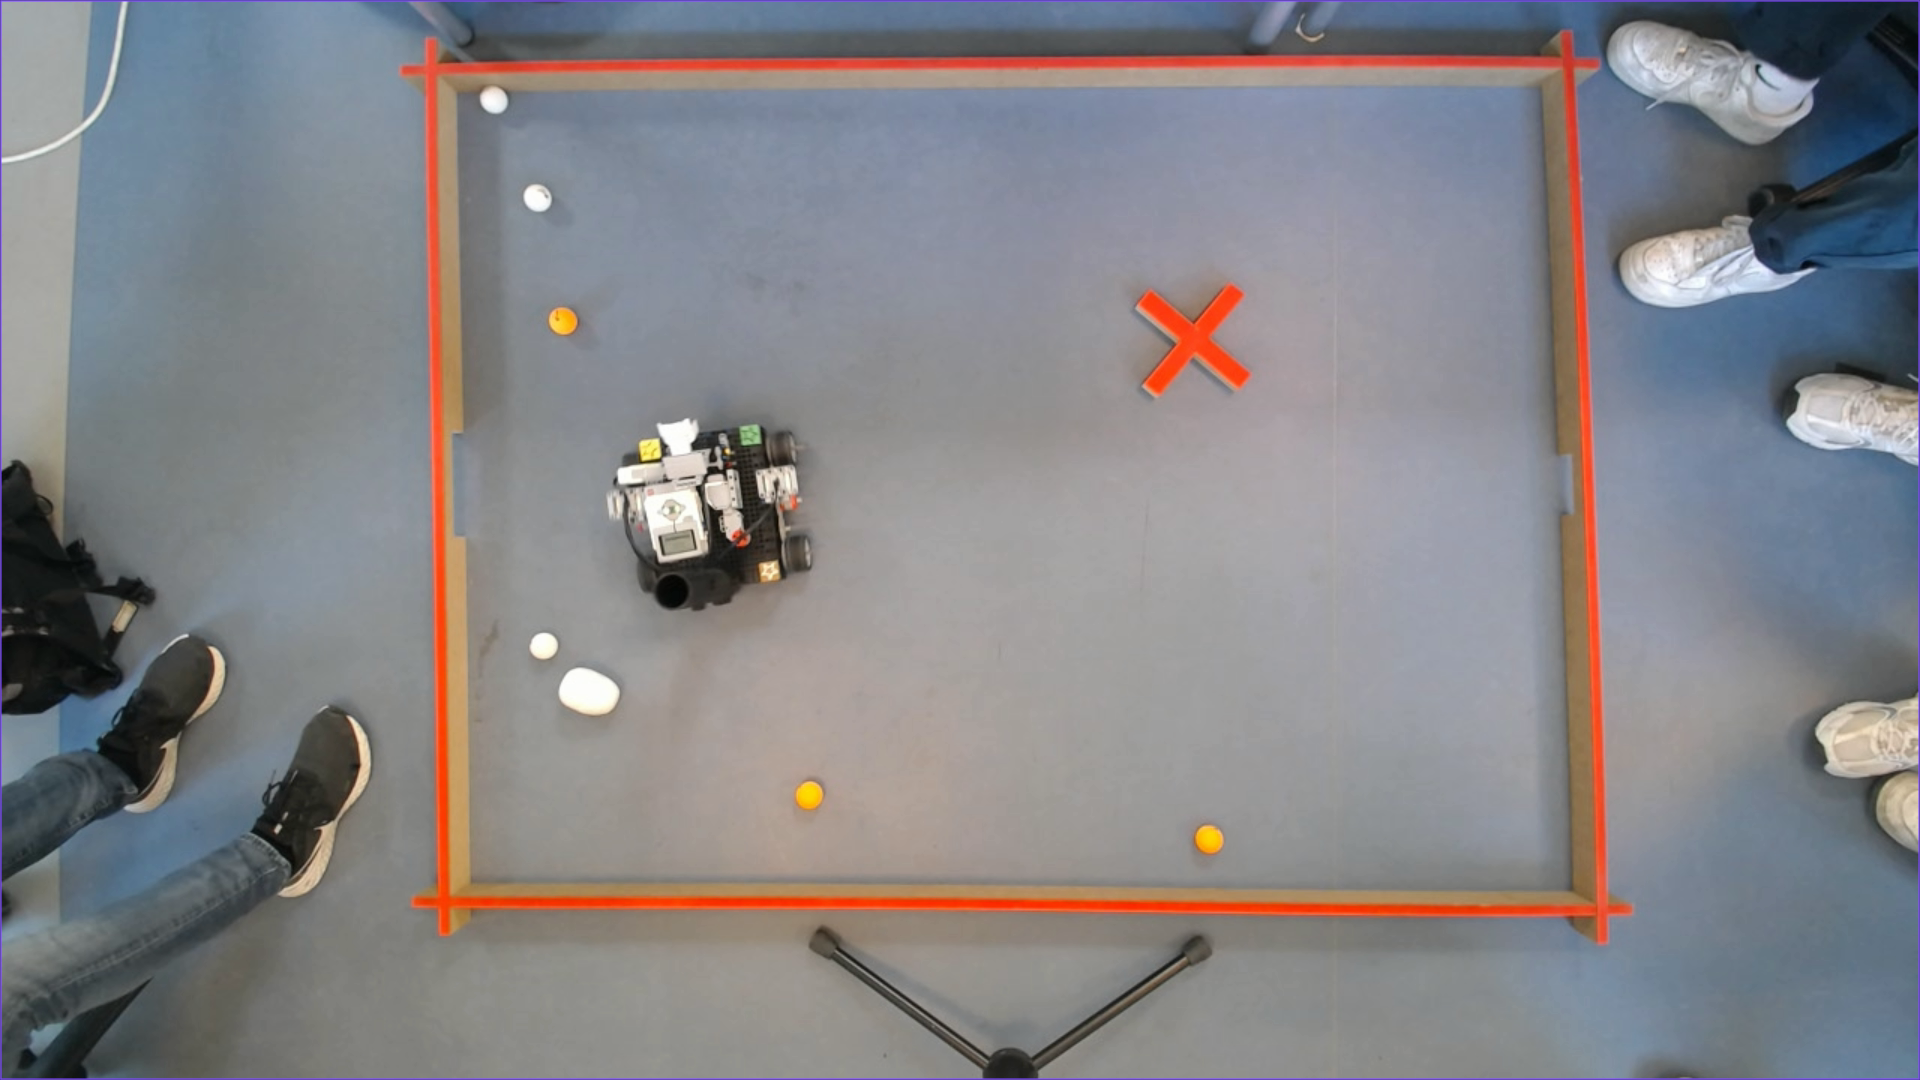ball_orange: (1193, 824, 1224, 855), (795, 779, 824, 810), (549, 307, 578, 335)
ball_white: (479, 84, 509, 113), (524, 185, 553, 214), (529, 632, 558, 659)
corner_brown: (758, 559, 781, 583)
corner_green: (738, 425, 762, 446)
corner_yellow: (638, 438, 662, 462)
cross: (1137, 284, 1251, 396)
egg: (558, 667, 621, 716)
playfield: (425, 55, 1609, 915)
